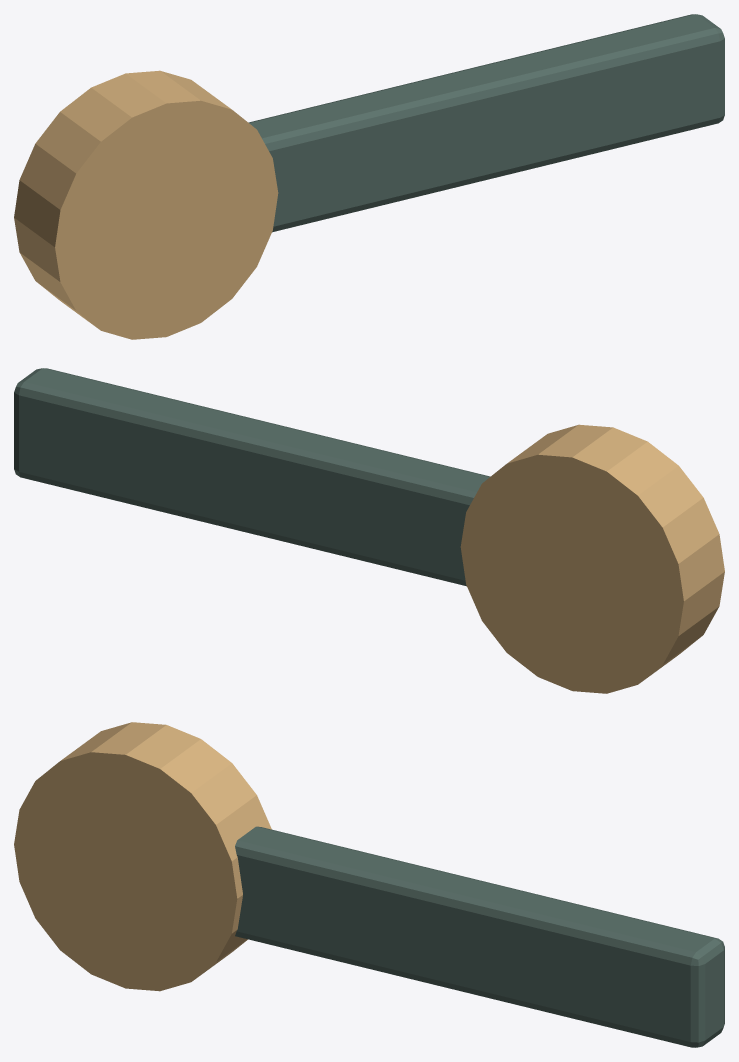
The model's file is common_machine_needle.glb.
3 renders of one model, top to bottom at view 1: azimuth 30°, elevation 25°; view 2: azimuth 150°, elevation 25°; view 3: azimuth 330°, elevation 25°, orthographic.
Parts seen in each view (by area): view 1: common_machine_needle__common-brushed-brass, common_machine_needle__common-dark-timber; view 2: common_machine_needle__common-brushed-brass, common_machine_needle__common-dark-timber; view 3: common_machine_needle__common-dark-timber, common_machine_needle__common-brushed-brass.
Boxes of the visible parts, <box> form: common_machine_needle__common-brushed-brass: <box>14,70,278,339</box>; common_machine_needle__common-dark-timber: <box>248,14,724,232</box>; common_machine_needle__common-brushed-brass: <box>460,424,724,693</box>; common_machine_needle__common-dark-timber: <box>14,368,490,586</box>; common_machine_needle__common-dark-timber: <box>235,826,724,1047</box>; common_machine_needle__common-brushed-brass: <box>14,722,271,991</box>.
Bounding box in the file's own units: 0.335 × 0.11 × 0.035.
